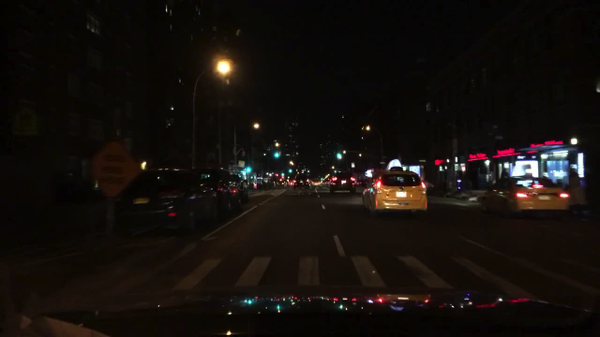car: (112, 167, 218, 234), (361, 158, 427, 218), (477, 175, 569, 216), (193, 167, 242, 216), (328, 171, 358, 194), (228, 171, 248, 202), (294, 173, 309, 190), (260, 178, 272, 189), (274, 181, 287, 188)
person: (564, 168, 587, 220)
traffic light: (273, 151, 278, 159), (247, 166, 251, 174), (288, 169, 293, 175), (280, 172, 285, 178), (337, 153, 340, 161)
traffic sign: (89, 141, 143, 198), (237, 161, 245, 168)
